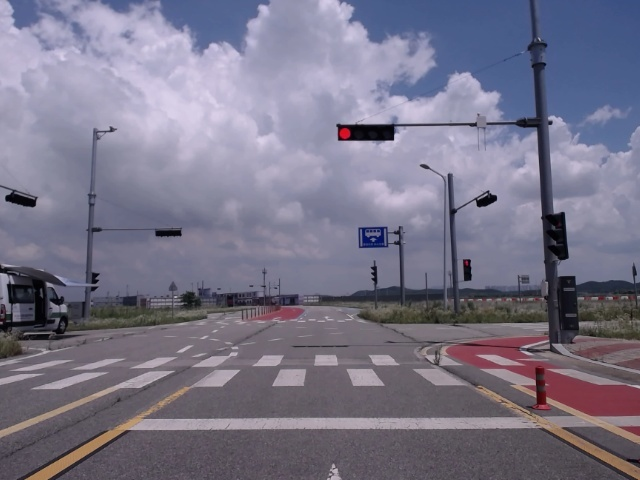red_4: (338, 127, 394, 141)
